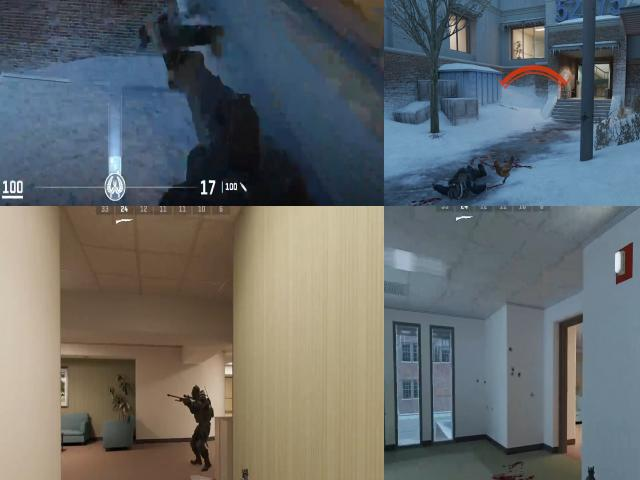CT: (187, 381, 213, 466)
CT-Head: (189, 382, 204, 404)
Dead: (136, 8, 211, 73), (445, 164, 488, 201)
